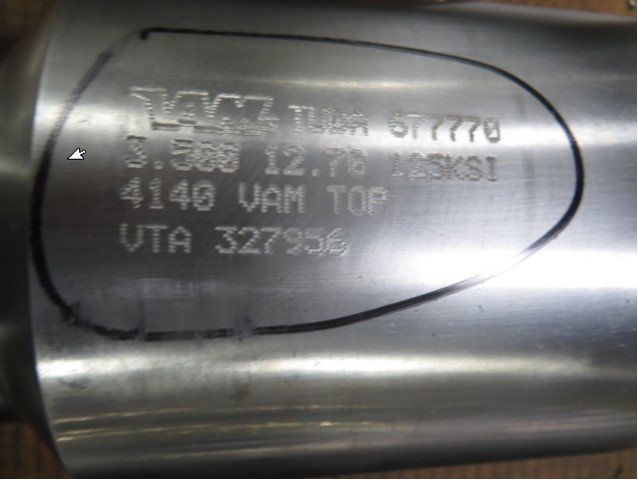character: (112, 131, 150, 171), (114, 175, 146, 210), (381, 107, 409, 144), (281, 140, 309, 177), (191, 176, 217, 215), (322, 144, 347, 183), (168, 176, 193, 215), (365, 186, 393, 220), (116, 223, 145, 255), (144, 173, 167, 213), (260, 139, 283, 178), (238, 178, 260, 217), (284, 181, 307, 218), (169, 137, 194, 171), (323, 182, 347, 217), (325, 224, 349, 259), (236, 223, 260, 258), (167, 223, 192, 256), (349, 101, 370, 140), (347, 146, 369, 183), (260, 225, 284, 258), (212, 223, 236, 256), (260, 183, 283, 217), (328, 103, 349, 140), (284, 101, 307, 134), (346, 184, 368, 218), (283, 225, 305, 259), (145, 223, 168, 255), (304, 223, 325, 258), (483, 111, 505, 144), (482, 151, 503, 185), (307, 103, 328, 134), (444, 152, 465, 182), (426, 109, 445, 142), (464, 111, 483, 144), (387, 148, 406, 181), (406, 151, 426, 181), (409, 109, 426, 144), (445, 111, 464, 142), (465, 152, 482, 185), (426, 151, 444, 182), (152, 159, 163, 172), (310, 168, 320, 179)
